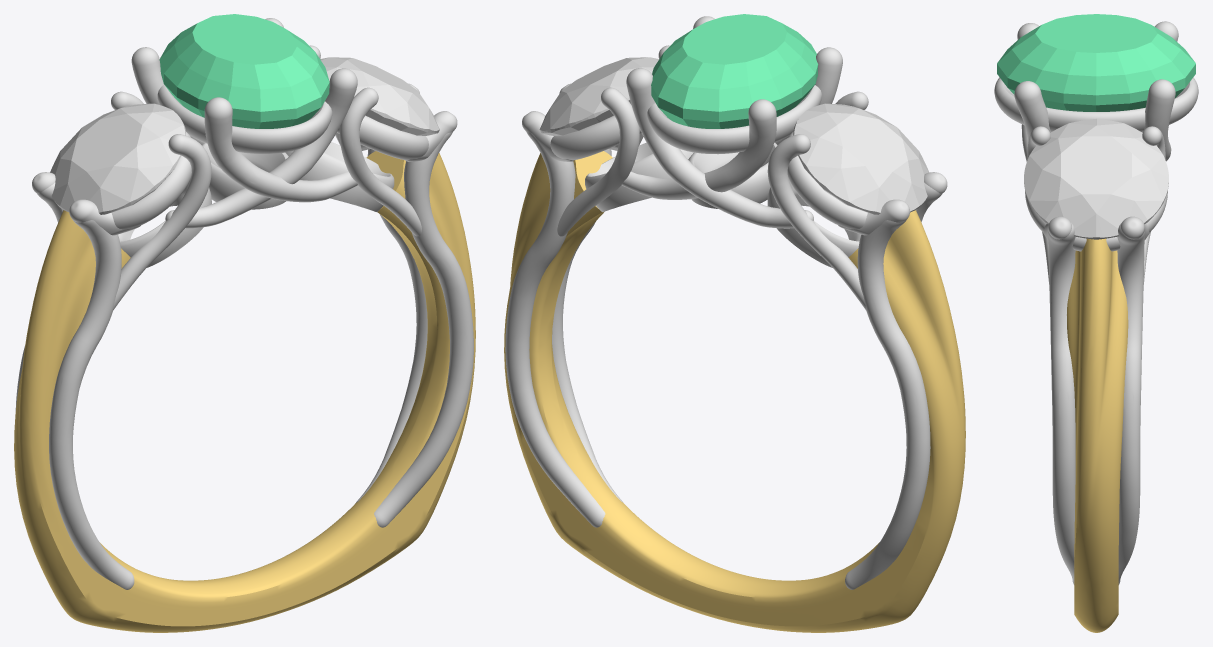
Rendered from BlaineV5oceanprongs_blender.glb.
3 views of the same model, side by side, from view 1: azimuth 30°, elevation 25°; view 2: azimuth 150°, elevation 25°; view 3: azimuth 270°, elevation 25° (orthographic). The views are drawn at different scales.
Visible parts, largest first — view 1: V5 Blaine PT for 3d model, V5 Blaine YG for 3d model, Blaine garnet for 3d model, Blaine dia for 3d model.185, Blaine dia for 3d model.017; view 2: V5 Blaine PT for 3d model, V5 Blaine YG for 3d model, Blaine garnet for 3d model, Blaine dia for 3d model.185, Blaine dia for 3d model.017; view 3: V5 Blaine PT for 3d model, V5 Blaine YG for 3d model, Blaine garnet for 3d model, Blaine dia for 3d model.017, Blaine dia for 3d model.007, Blaine dia for 3d model.013, Blaine dia for 3d model.034, Blaine dia for 3d model.037, Blaine dia for 3d model.021, Blaine dia for 3d model.030, Blaine dia for 3d model.033, Blaine dia for 3d model.036 (+2 smaller).
Boxes of the visible parts, x1,y1,x2,y2 form: V5 Blaine PT for 3d model: [15, 18, 473, 589]; V5 Blaine YG for 3d model: [14, 151, 475, 632]; Blaine garnet for 3d model: [159, 14, 329, 128]; Blaine dia for 3d model.185: [71, 114, 141, 171]; Blaine dia for 3d model.017: [347, 58, 417, 92]; V5 Blaine PT for 3d model: [505, 16, 947, 589]; V5 Blaine YG for 3d model: [504, 151, 965, 632]; Blaine garnet for 3d model: [651, 14, 818, 128]; Blaine dia for 3d model.185: [837, 114, 907, 171]; Blaine dia for 3d model.017: [562, 58, 631, 92]; V5 Blaine PT for 3d model: [994, 21, 1198, 584]; V5 Blaine YG for 3d model: [1067, 238, 1128, 632]; Blaine garnet for 3d model: [997, 14, 1195, 111]; Blaine dia for 3d model.017: [1061, 136, 1131, 194]; Blaine dia for 3d model.007: [1058, 194, 1096, 228]; Blaine dia for 3d model.013: [1096, 194, 1134, 228]; Blaine dia for 3d model.034: [1132, 169, 1162, 199]; Blaine dia for 3d model.037: [1030, 169, 1060, 199]; Blaine dia for 3d model.021: [1058, 123, 1095, 138]; Blaine dia for 3d model.030: [1097, 123, 1134, 138]; Blaine dia for 3d model.033: [1132, 177, 1162, 200]; Blaine dia for 3d model.036: [1030, 177, 1060, 200].
Bounding box in the file's own units: 20.5 × 25.08 × 8.3.
